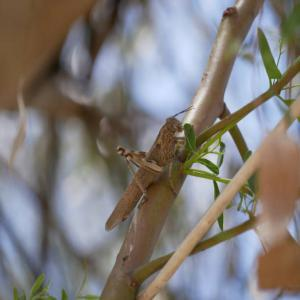locust: (94, 100, 216, 237)
